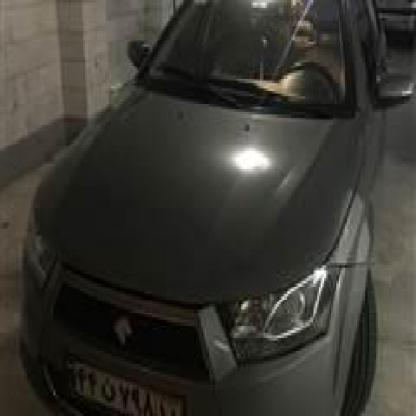car: (15, 0, 389, 414)
